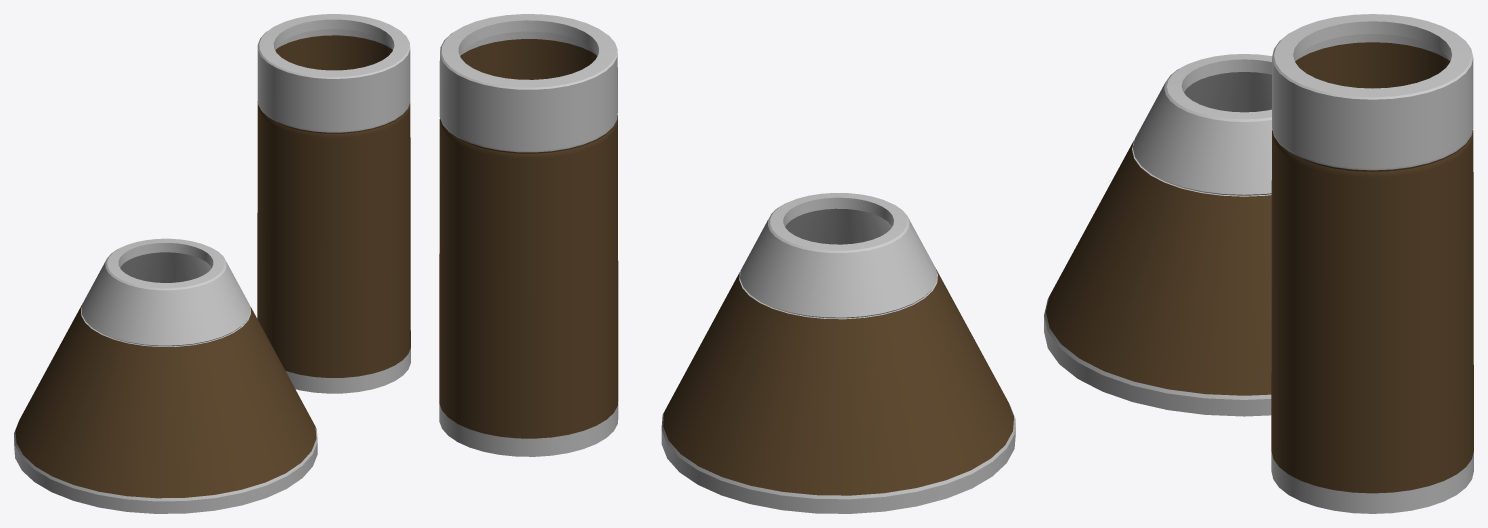
Rendered from cgt_Accessory_44_001.fbx.
The picture shows the model from 3 angles, left to right: view 1: azimuth 30°, elevation 25°; view 2: azimuth 150°, elevation 25°; view 3: azimuth 270°, elevation 25°; orthographic projection. The views are drawn at different scales.
Parts seen in each view (by area): view 1: cgt_Accessory_44_001; view 2: cgt_Accessory_44_001; view 3: cgt_Accessory_44_001.
Part boxes in pixels (bbox=[...]): cgt_Accessory_44_001: bbox=[14, 14, 410, 513]; cgt_Accessory_44_001: bbox=[439, 14, 1015, 513]; cgt_Accessory_44_001: bbox=[1044, 14, 1473, 513].
Bounding box in the file's own units: 28.14 × 19.17 × 20.48.
